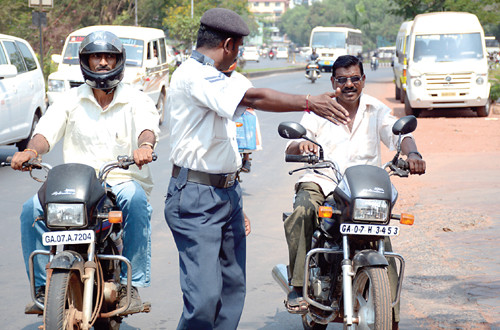helmet: (75, 32, 126, 88)
